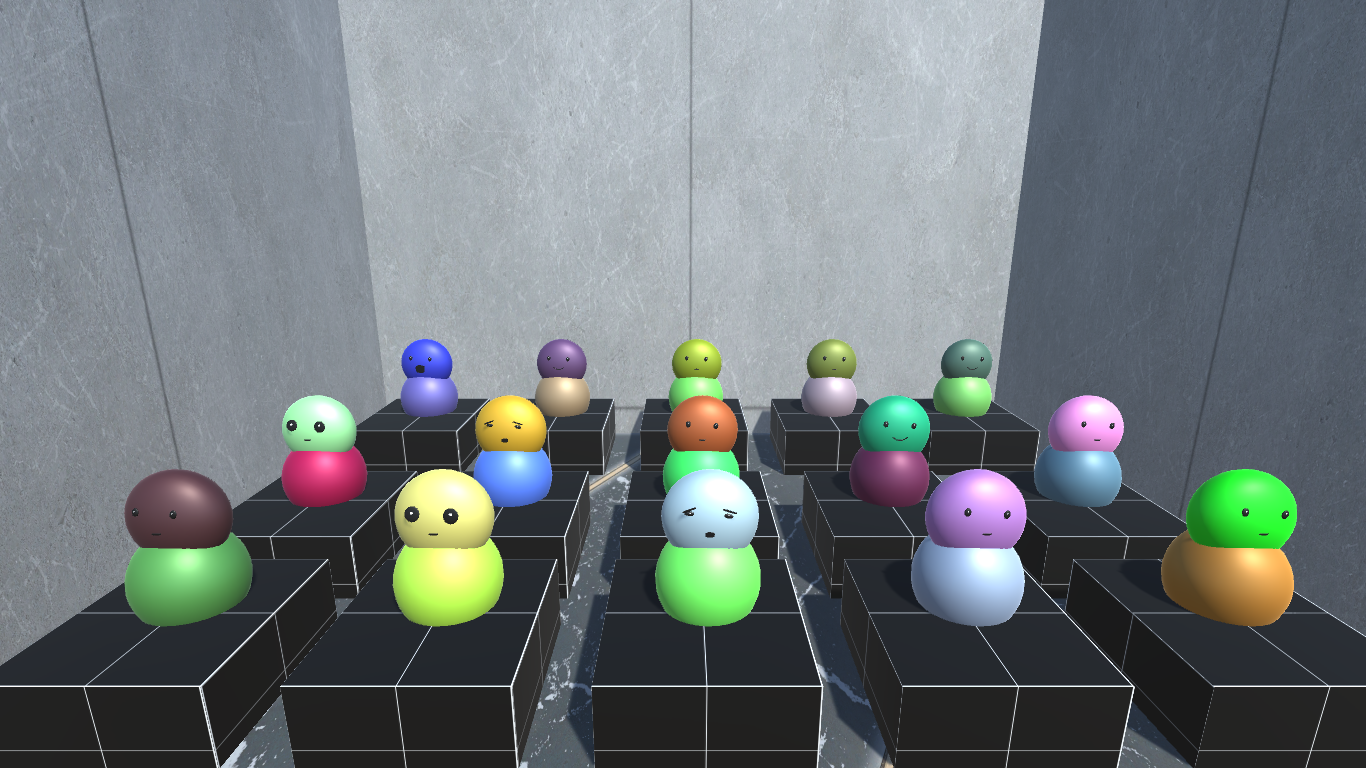blob_atento: (389, 463, 497, 555), (274, 388, 361, 450)
blob_entediado: (654, 464, 764, 555), (465, 394, 550, 456)
blob_feliz: (852, 391, 936, 453), (938, 328, 993, 382), (533, 332, 590, 383)
blob_normal: (113, 464, 236, 558), (1176, 465, 1297, 555), (913, 463, 1020, 558), (1041, 388, 1127, 454), (658, 393, 741, 455), (669, 333, 723, 381), (804, 336, 854, 387)
blob_surpreso: (395, 335, 456, 382)
